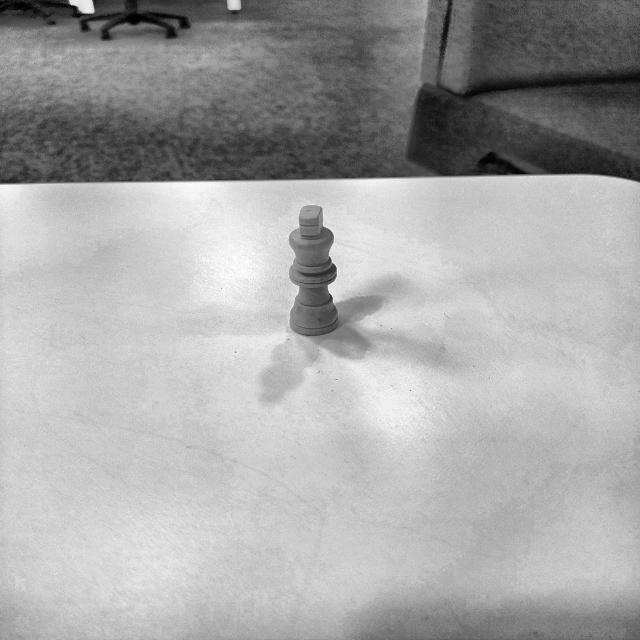white-king: (288, 206, 338, 336)
